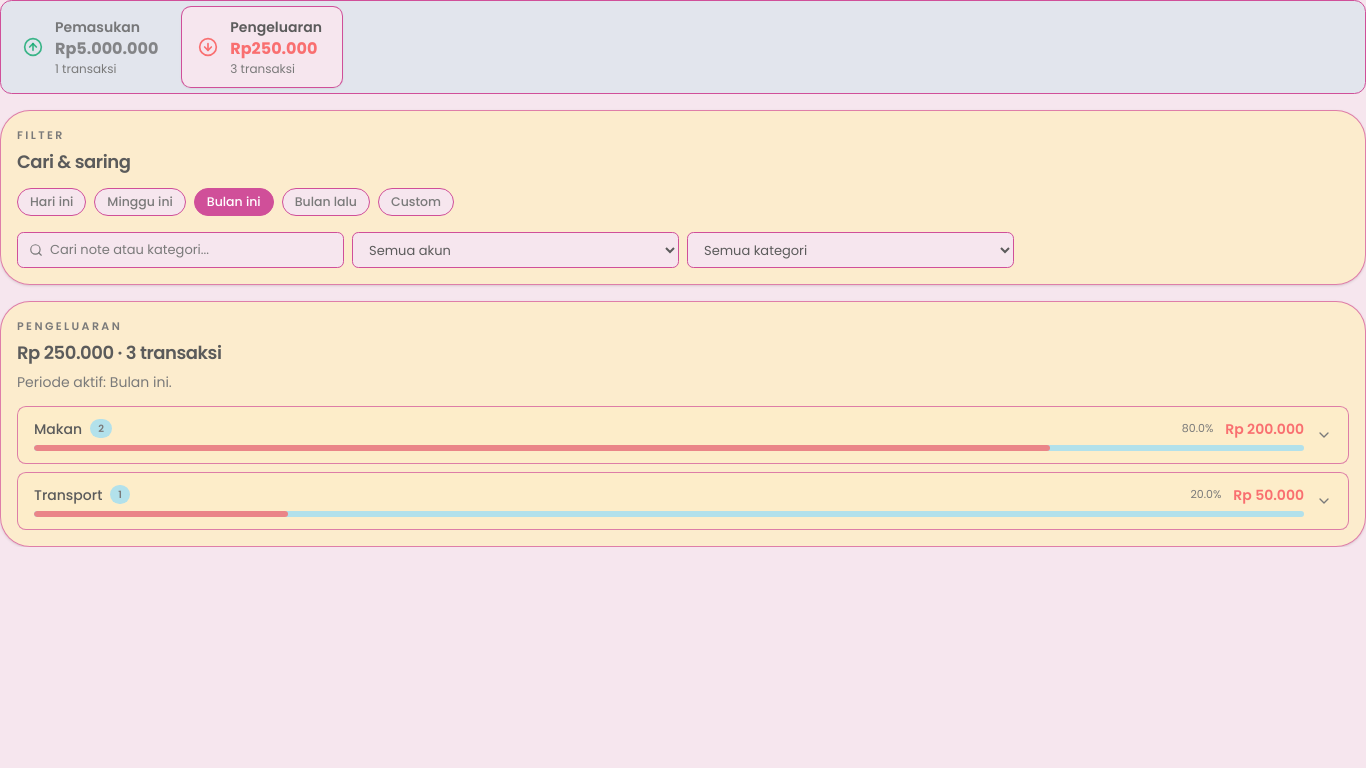
Test: DetailsClient (integration) › clicking a category row sets aria-expanded='true' and renders a role='region' with member transactions
The image size is (1366, 768).
Click the button "Makan 2 80.0% Rp 200.000" at (58,428), box [17,406,1349,464]
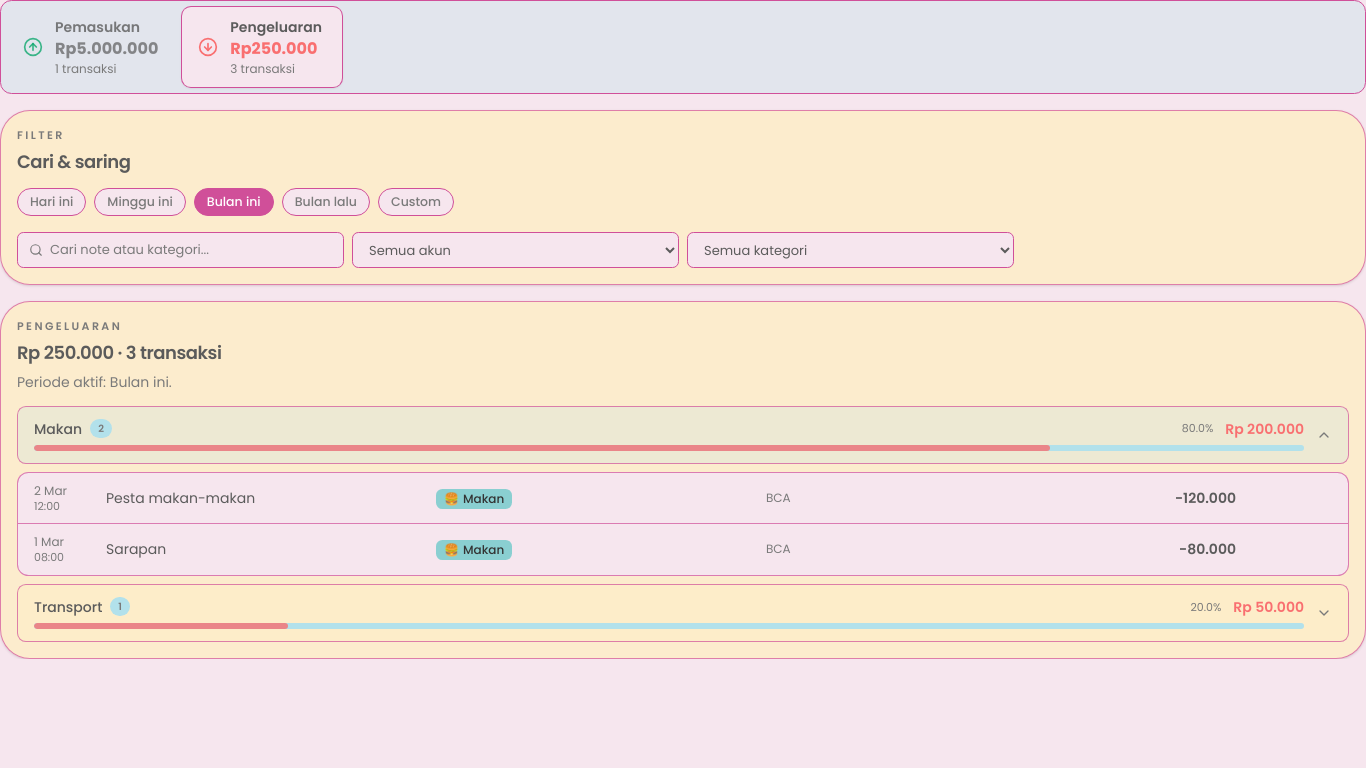
Result: the button "Makan 2 80.0% Rp 200.000" is expanded at [17,406,1349,464]
Result: the text "Sarapan" is shown at [106,540,166,560]
Result: the text "Pesta makan-makan" is shown at [106,488,255,508]
